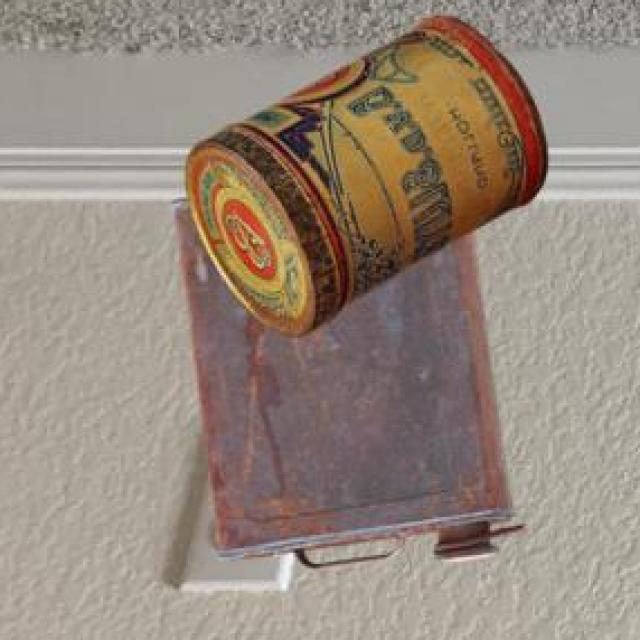logam: (169, 203, 523, 572), (182, 19, 545, 339)
